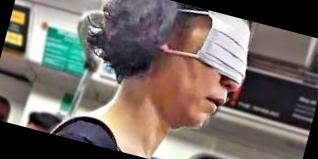mask_weared_incorrect: (169, 16, 260, 138)
